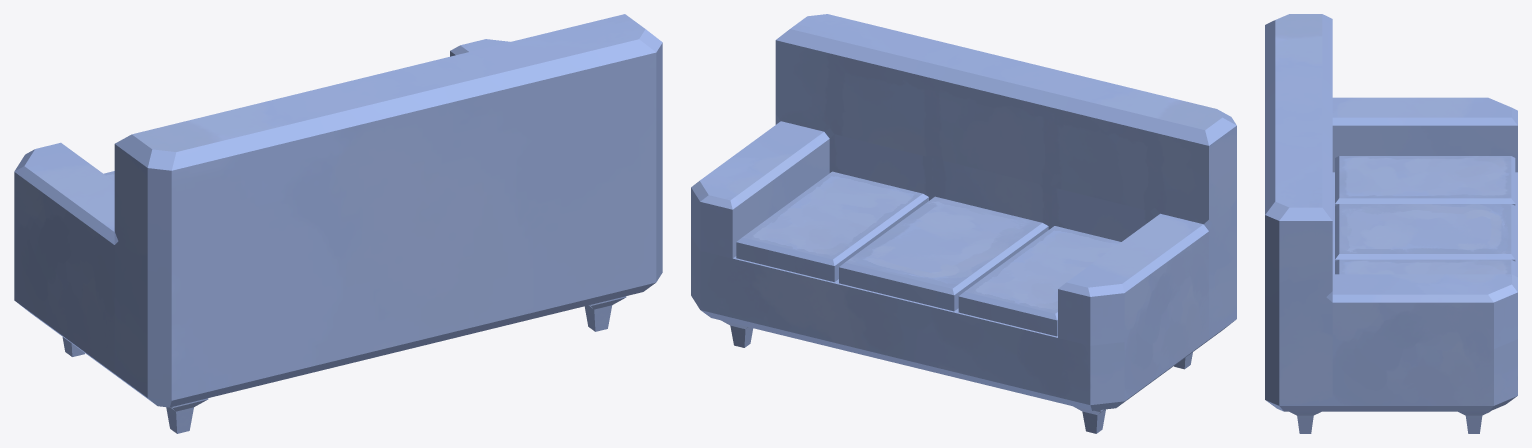
The model's file is Sofa_Living_01.fbx.
3 views of the same model, side by side, from view 1: azimuth 30°, elevation 25°; view 2: azimuth 150°, elevation 25°; view 3: azimuth 270°, elevation 25° (orthographic). The views are drawn at different scales.
Visible parts, largest first — view 1: Sofabase_01, Leg_04, Leg_02; view 2: Sofabase_01; view 3: Sofabase_01, Leg_02, Leg_01.
Boxes of the visible parts, left/top/right/bottom form: Sofabase_01: left=14, top=14, right=662, bottom=407; Leg_04: left=166, top=398, right=208, bottom=433; Leg_02: left=584, top=296, right=626, bottom=331; Sofabase_01: left=691, top=14, right=1236, bottom=410; Sofabase_01: left=1265, top=14, right=1517, bottom=411; Leg_02: left=1289, top=411, right=1321, bottom=433; Leg_01: left=1458, top=411, right=1490, bottom=433.
Size of the model in its own units: 1 by 0.5508 by 0.5285.
